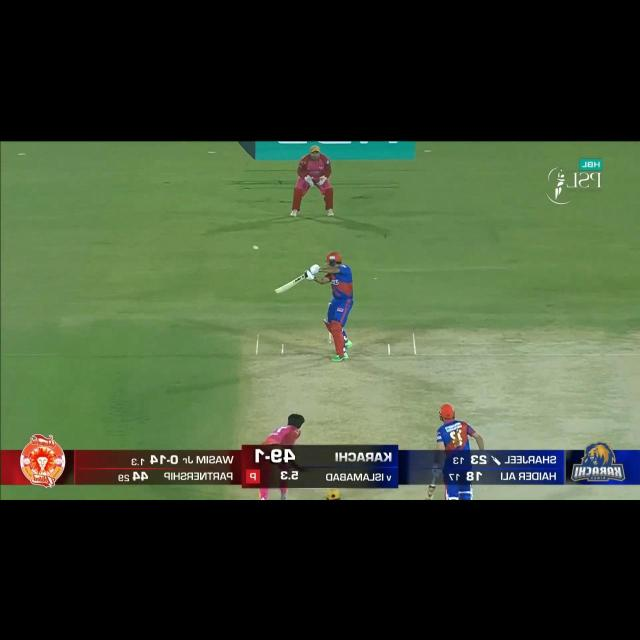bat: (274, 272, 309, 295)
toe: (275, 288, 281, 295)
